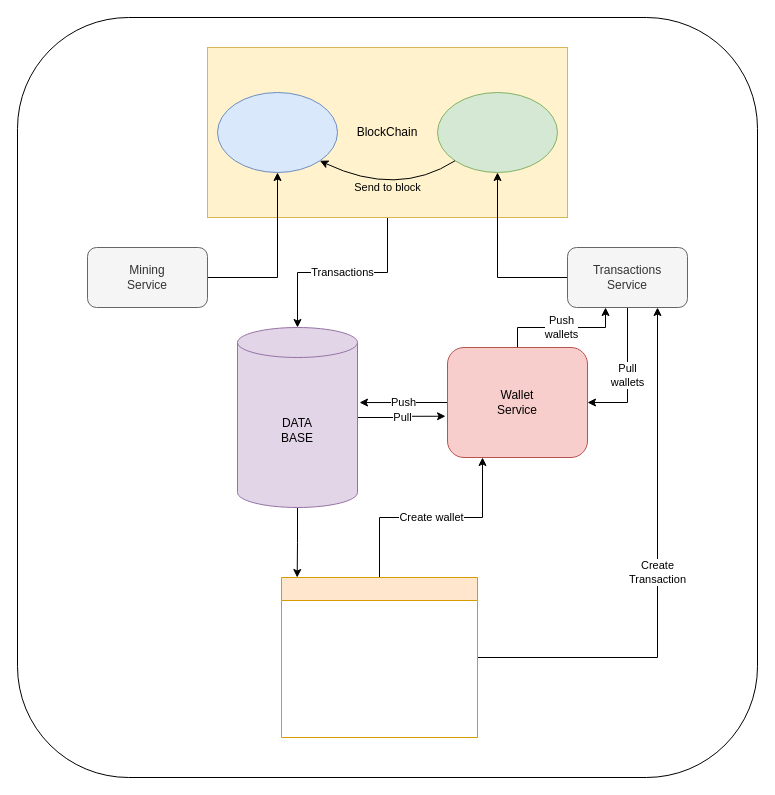
This 775x795 diagram has some shape labels left out. Here are the shapes that lost their labels. From the top down, the centre of each, then its label:
At point 277,132: "Mining Node (ports: 8**0)".
At point 497,132: "Transactions Node (ports: 8**1)".
At point 379,657: "User GUI".
